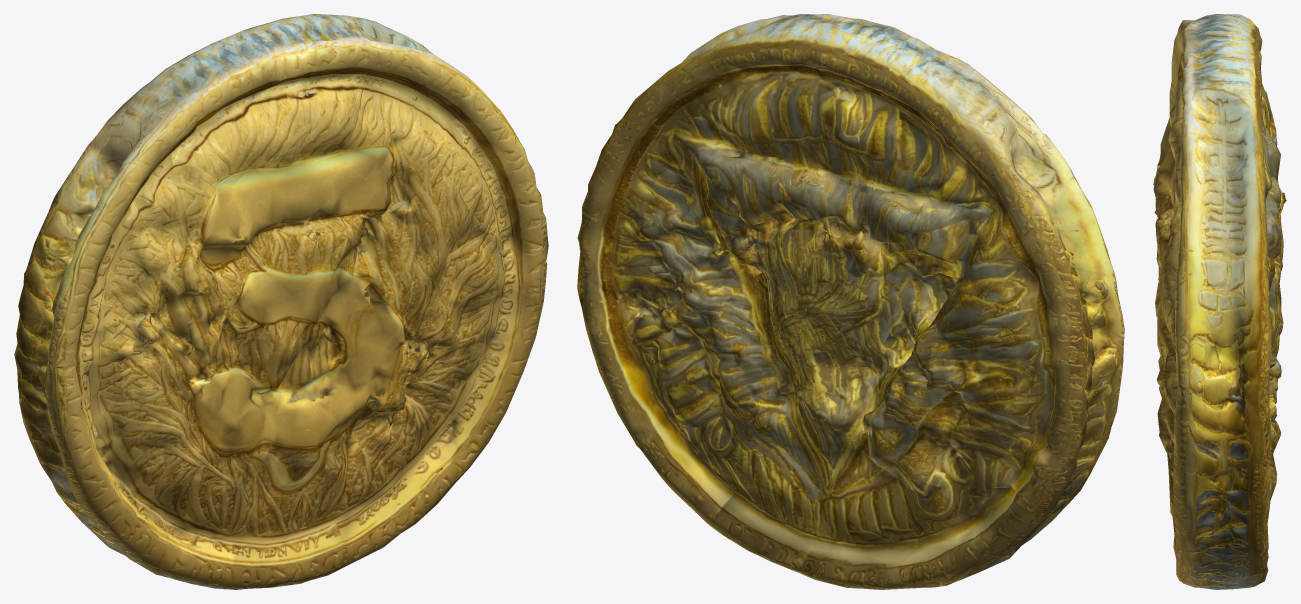
Rendered from 3 Boyutlu Para.fbx.
3 views of the same model, side by side, from view 1: azimuth 30°, elevation 25°; view 2: azimuth 150°, elevation 25°; view 3: azimuth 270°, elevation 25° (orthographic). The views are drawn at different scales.
Parts seen in each view (by area): view 1: Mesh_0; view 2: Mesh_0; view 3: Mesh_0.
Boxes of the visible parts, x1=… form: Mesh_0: x1=14, y1=14, x2=548, y2=589; Mesh_0: x1=577, y1=14, x2=1124, y2=589; Mesh_0: x1=1153, y1=14, x2=1286, y2=589.
Bounding box in the file's own units: 116 × 120 × 27.6.
Materials: 1 (1 with a texture image).
